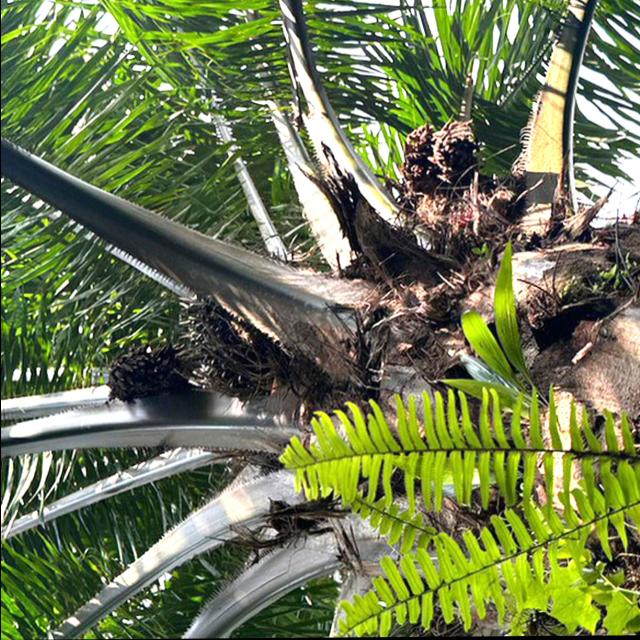ripe: (167, 290, 303, 409)
